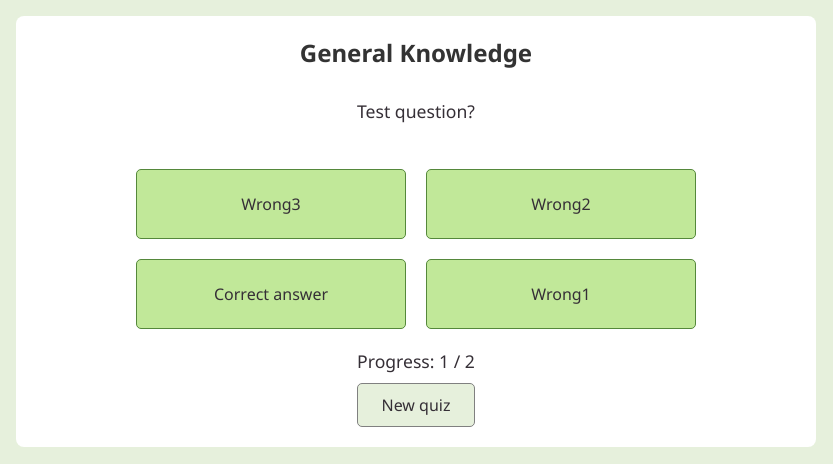
Test: QuizView.vue › increments score and progress on correct answer
Step 1. Click the button "Wrong3" → coordinates (271, 204), box [136,169,406,239]
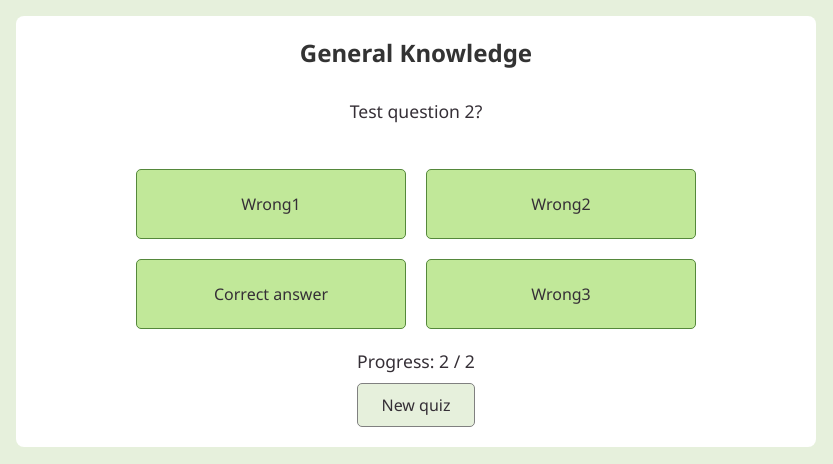
Expected: the text "Progress: 2 / 2" is shown, [357,349,475,373]
